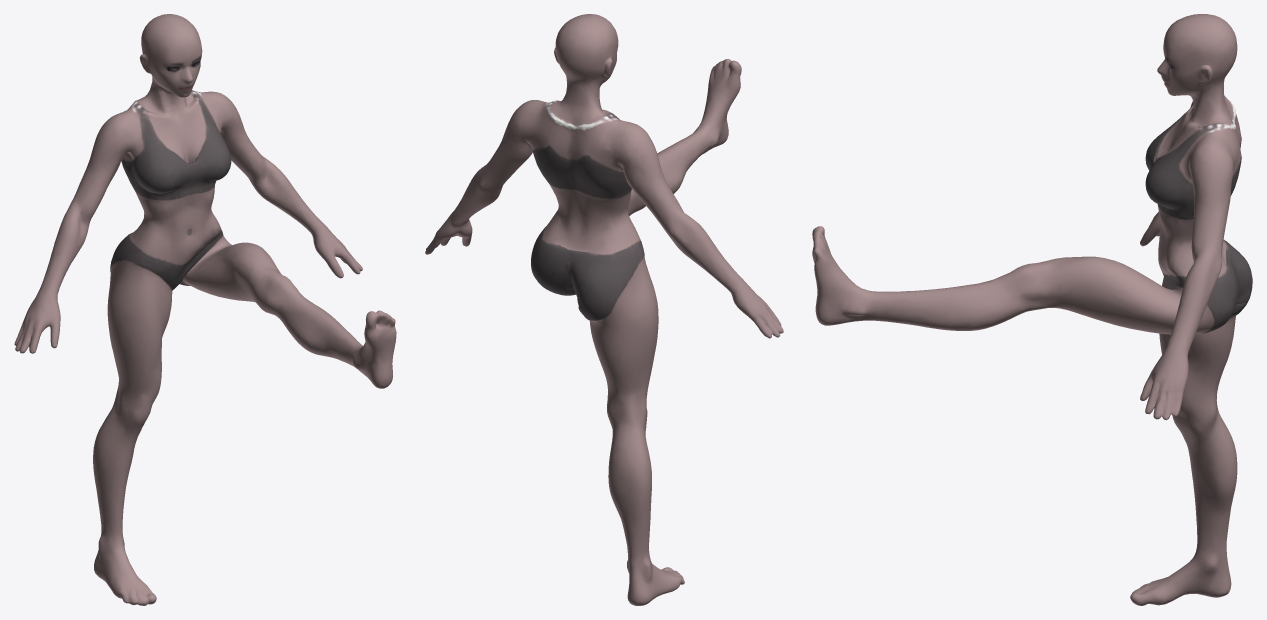
File: legacy-ThighR-90.glb
3 renders of one model, left to right at view 1: azimuth 30°, elevation 25°; view 2: azimuth 150°, elevation 25°; view 3: azimuth 270°, elevation 25°, orthographic. The views are drawn at different scales.
Parts seen in each view (by area): view 1: legacy-ThighR-90; view 2: legacy-ThighR-90; view 3: legacy-ThighR-90.
Boxes of the visible parts, left/top/right/bottom form: legacy-ThighR-90: left=14, top=14, right=396, bottom=605; legacy-ThighR-90: left=425, top=14, right=783, bottom=605; legacy-ThighR-90: left=812, top=14, right=1252, bottom=605.
Size of the model in its own units: 0.6509 by 1 by 0.6513.
1 material, 1 textured.
